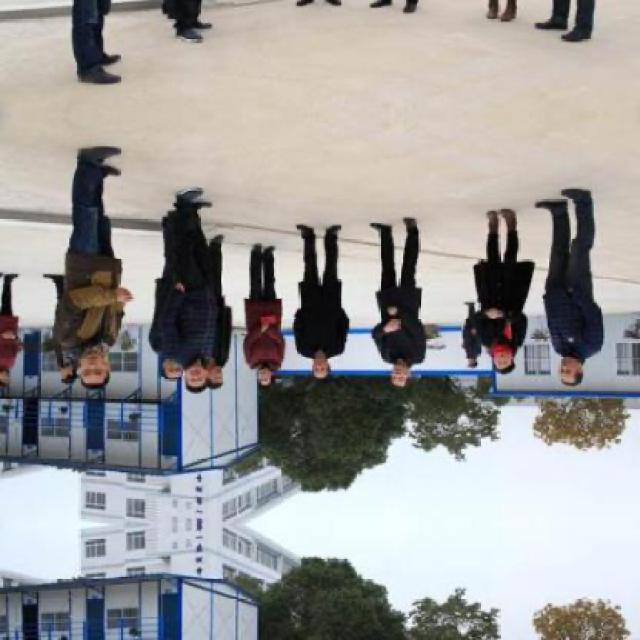sin casco: (60, 330, 140, 395), (537, 344, 607, 391), (370, 351, 427, 393), (468, 343, 519, 389), (166, 356, 216, 397), (300, 342, 342, 386), (247, 355, 289, 395)
